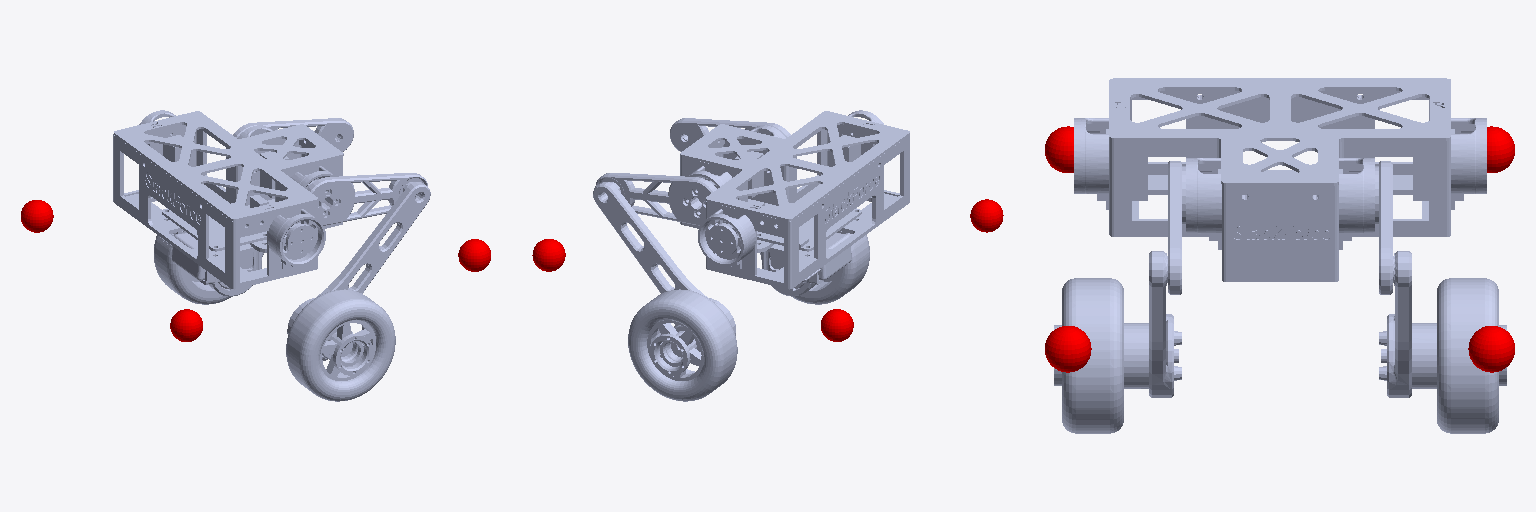
robot.urdf — sf:
<?xml version="1.0" encoding="utf-8"?>
<!-- This URDF was automatically created by SolidWorks to URDF Exporter! Originally created by Stephen Brawner (brawner@gmail.com) 
     Commit Version: 1.6.0-4-g7f85cfe  Build Version: 1.6.7995.38578
     For more information, please see http://wiki.ros.org/sw_urdf_exporter -->
<robot
  name="sf">
  <link
    name="base_link">
    <inertial>
      <origin
        xyz="0.0061304 0.0002476 -0.0093676"
        rpy="0 0 0" />
      <mass
        value="0.2660000" />  # 原版质量0.266
      <inertia
        ixx="0.0006309"
        ixy="0.0000006"
        ixz="-0.0000468"
        iyy="0.0003008"
        iyz="0.0000003"
        izz="0.0007489" />
      <!--<mass
        value="0.2660000" />
      <inertia
        ixx="0.001100"
        ixy="0.0000000"
        ixz="0.0000000"
        iyy="0.001400"
        iyz="0.0000000"
        izz="0.002400" />-->
      <!--<mass
        value="0.7280000" />  
      <inertia
        ixx="0.001727"    
        ixy="0.0000016"   
        ixz="-0.000128"   
        iyy="0.000823"    
        iyz="0.0000008"   
        izz="0.002050" />-->  
    </inertial>
    <visual>
      <origin
        xyz="0.00 0 -0.00"
        rpy="0 0 0" />
      <!--<origin
        xyz="0.01 0 -0.025"
        rpy="0 0 0" />-->
      <geometry>
        <mesh
          filename="../meshes/base_link.STL" />
        <!--<box size="0.24 0.18 0.01" />-->
      </geometry>
      <material
        name="">
        <color
          rgba="0.792156862745098 0.819607843137255 0.933333333333333 1" />
      </material>
    </visual>
    
    <!-- 防倾倒支撑点 - 可视化部分 -->
    <!-- 左前支撑点 -->
    <visual>
      <origin xyz="0.115 0.09 -0.03" rpy="0 0 0" />
      <geometry>
        <sphere radius="0.01"/>
      </geometry>
      <material name="">
        <color rgba="1.0 0.0 0.0 1" />  <!-- 红色，易于识别 -->
      </material>
    </visual>
    
    <!-- 右前支撑点 -->
    <visual>
      <origin xyz="0.115 -0.09 -0.03" rpy="0 0 0" />
      <geometry>
        <sphere radius="0.01"/>
      </geometry>
      <material name="">
        <color rgba="1.0 0.0 0.0 1" />  <!-- 红色，易于识别 -->
      </material>
    </visual>
    
    <!-- 左后支撑点 -->
    <visual>
      <origin xyz="-0.085 0.09 -0.03" rpy="0 0 0" />
      <geometry>
        <sphere radius="0.01"/>
      </geometry>
      <material name="">
        <color rgba="1.0 0.0 0.0 1" />  <!-- 红色，易于识别 -->
      </material>
    </visual>
    
    <!-- 右后支撑点 -->
    <visual>
      <origin xyz="-0.085 -0.09 -0.03" rpy="0 0 0" />
      <geometry>
        <sphere radius="0.01"/>
      </geometry>
      <material name="">
        <color rgba="1.0 0.0 0.0 1" />  <!-- 红色，易于识别 -->
      </material>
    </visual>
    
    <collision>
      <origin
        xyz="0.00 0 -0.00"
        rpy="0 0 0" />
      <!--<origin
        xyz="0.01 0 -0.025"
        rpy="0 0 0" />-->
      <geometry>
        <mesh
          filename="../meshes/base_link.STL" />
        <!--<box size="0.24 0.18 0.01" />-->
      </geometry>
    </collision>
    
    <!-- 防倾倒支撑点 - collision only, 无摩擦球体 -->
    <!-- 左前支撑点 -->
    <collision>
      <origin xyz="0.115 0.09 -0.03" rpy="0 0 0" />
      <geometry>
        <sphere radius="0.01"/>
      </geometry>
      <surface>
        <friction>
          <ode>
            <mu>0.001</mu>
            <mu2>0.001</mu2>
          </ode>
        </friction>
      </surface>
    </collision>
    
    <!-- 右前支撑点 -->
    <collision>
      <origin xyz="0.115 -0.09 -0.03" rpy="0 0 0" />
      <geometry>
        <sphere radius="0.01"/>
      </geometry>
      <surface>
        <friction>
          <ode>
            <mu>0.001</mu>
            <mu2>0.001</mu2>
          </ode>
        </friction>
      </surface>
    </collision>
    
    <!-- 左后支撑点 -->
    <collision>
      <origin xyz="-0.085 0.09 -0.03" rpy="0 0 0" />
      <geometry>
        <sphere radius="0.01"/>
      </geometry>
      <surface>
        <friction>
          <ode>
            <mu>0.001</mu>
            <mu2>0.001</mu2>
          </ode>
        </friction>
      </surface>
    </collision>
    
    <!-- 右后支撑点 -->
    <collision>
      <origin xyz="-0.085 -0.09 -0.03" rpy="0 0 0" />
      <geometry>
        <sphere radius="0.01"/>
      </geometry>
      <surface>
        <friction>
          <ode>
            <mu>0.001</mu>
            <mu2>0.001</mu2>
          </ode>
        </friction>
      </surface>
    </collision>
  </link>
  <link
    name="LT_link">
    <inertial>
      <origin
        xyz="0.0012701 0.0040620 -0.0190086"
        rpy="0 0 0" />
      <mass
        value="0.0080000" />
      <inertia
        ixx="0.0000041"
        ixy="0.0000000"
        ixz="0.0000002"
        iyy="0.0000046"
        iyz="0.0000001"
        izz="0.0000005" />
    </inertial>
    <visual>
      <origin
        xyz="0 0 0"
        rpy="0 0 0" />
      <geometry>
        <mesh
          filename="../meshes/LT_link.STL" />
      </geometry>
      <material
        name="">
        <color
          rgba="0.792156862745098 0.819607843137255 0.933333333333333 1" />
      </material>
    </visual>
    <collision>
      <origin
        xyz="0 0 0"
        rpy="0 0 0" />
      <geometry>
        <mesh
          filename="../meshes/LT_link.STL" />
      </geometry>
    </collision>
  </link>
  <joint
    name="LT_joint"
    type="revolute">
    <origin
      xyz="0.037193 0.04014 0.00555"
      rpy="0 -1.3914 0" />
    <parent
      link="base_link" />
    <child
      link="LT_link" />
    <axis
      xyz="0 -1 0" />
    <limit
      lower="-1.3479"
      upper="0.3363"
      effort="0.5"
      velocity="20" />
    <dynamics
      friction="0.00"
      damping="0.1" />
  </joint>
  <link
    name="LC_link">
    <inertial>
      <origin
        xyz="0.0013809 0.0047027 -0.0690315"
        rpy="0 0 0" />
      <mass
        value="0.0166292" />
      <inertia
        ixx="1.92606315320937E-05"
        ixy="-8.82655659688194E-09"
        ixz="-3.55356649539172E-07"
        iyy="1.99807316204063E-05"
        iyz="4.41228359669666E-07"
        izz="1.55379596081475E-06" />
    </inertial>
    <visual>
      <origin
        xyz="0 0 0"
        rpy="0 0 0" />
      <geometry>
        <mesh
          filename="../meshes/LC_link.STL" />
      </geometry>
      <material
        name="">
        <color
          rgba="0.792156862745098 0.819607843137255 0.933333333333333 1" />
      </material>
    </visual>
    <collision>
      <origin
        xyz="0 0 0"
        rpy="0 0 0" />
      <geometry>
        <mesh
          filename="../meshes/LC_link.STL" />
      </geometry>
    </collision>
  </link>
  <joint
    name="LC_joint"
    type="revolute">
    <origin
      xyz="0.00400624584257155 0.00825 -0.0599599974003271"
      rpy="3.14159265358979 0.970968251102385 3.14159265358979" />
    <parent
      link="LT_link" />
    <child
      link="LC_link" />
    <axis
      xyz="0 -1 0" />
    <limit
      lower="-0.3"
      upper="1.25"
      effort="0.5"
      velocity="20" />
    <dynamics
      friction="0.00"
      damping="0.1" />
  </joint>
  <link
    name="LW_link">
    <inertial>
      <origin
        xyz="0.0000000 0.0083246 0.0000000"
        rpy="0 0 0" />
      <mass
        value="0.0559681585451639" />
      <inertia
        ixx="0.0000121"
        ixy="0.0000000"
        ixz="0.0000000"
        iyy="0.0000209"
        iyz="0.0000000"
        izz="0.0000121" />
    </inertial>
    <visual>
      <origin
        xyz="0 0.0 0"
        rpy="0 0 0" />
      <geometry>
        <mesh
          filename="../meshes/LW_link.STL" />
      </geometry>
      <!--<geometry>
        <cylinder length="0.03" radius="0.03"/>
      </geometry>-->
      <material
        name="">
        <color
          rgba="0.792156862745098 0.819607843137255 0.933333333333333 1" />
      </material>
    </visual>
    <collision>
      <origin
        xyz="0 0.0 0"
        rpy="0 0 0" />
      <geometry>
        <mesh
          filename="../meshes/LW_link.STL" />
      </geometry>
      <!--<geometry>
        <cylinder length="0.03" radius="0.03"/>
      </geometry>-->
    </collision>
  </link>
  <joint
    name="LW_joint"
    type="revolute">
    <origin
      xyz="0.00200000000000076 0.024 -0.0999799979995941"
      rpy="0 -0.779219558190924 0" />
    <parent
      link="LC_link" />
    <child
      link="LW_link" />
    <axis
      xyz="0 1 0" />
    <limit
      
      effort="0.1"
      velocity="100" />
    <dynamics
      friction="0.0015"
      damping="0.00" />
  </joint>
  <link
    name="RT_link">
    <inertial>
      <origin
        xyz="0.00127013 -0.0040620 -0.0190086"
        rpy="0 0 0" />
      <mass
        value="0.0080000" />
      <inertia
        ixx="0.0000041"
        ixy="0.0000000"
        ixz="0.0000002"
        iyy="0.0000046"
        iyz="0.0000001"
        izz="0.0000005" />
    </inertial>
    <visual>
      <origin
        xyz="0 0 0"
        rpy="0 0 0" />
      <geometry>
        <mesh
          filename="../meshes/RT_link.STL" />
      </geometry>
      <material
        name="">
        <color
          rgba="0.792156862745098 0.819607843137255 0.933333333333333 1" />
      </material>
    </visual>
    <collision>
      <origin
        xyz="0 0 0"
        rpy="0 0 0" />
      <geometry>
        <mesh
          filename="../meshes/RT_link.STL" />
      </geometry>
    </collision>
  </link>
  <joint
    name="RT_joint"
    type="revolute">
    <origin
      xyz="0.037193 -0.03976 0.00555"
      rpy="0 -1.3914 0" />
    <parent
      link="base_link" />
    <child
      link="RT_link" />
    <axis
      xyz="0 1 0" />
    <limit
      lower="-0.3363"
      upper="1.3479"
      effort="0.5"
      velocity="20" />
    <dynamics
      friction="0.00"
      damping="0.1" />
  </joint>
  <link
    name="RC_link">
    <inertial>
      <origin
        xyz="-0.0013809 -0.0047027 -0.0690315"
        rpy="0 0 0" />
      <mass
        value="0.0166292" />
      <inertia
        ixx="0.0000240"
        ixy="0.0000000"
        ixz="0.0000004"
        iyy="0.0000245"
        iyz="-0.00000006"
        izz="0.0000016" />
    </inertial>
    <visual>
      <origin
        xyz="0 0 0"
        rpy="0 0 0" />
      <geometry>
        <mesh
          filename="../meshes/RC_link.STL" />
      </geometry>
      <material
        name="">
        <color
          rgba="0.792156862745098 0.819607843137255 0.933333333333333 1" />
      </material>
    </visual>
    <collision>
      <origin
        xyz="0 0 0"
        rpy="0 0 0" />
      <geometry>
        <mesh
          filename="../meshes/RC_link.STL" />
      </geometry>
    </collision>
  </link>
  <joint
    name="RC_joint"
    type="revolute">
    <origin
      xyz="0.0040062458425682 -0.00825000000001 -0.0599599974003474"
      rpy="-3.14159265358951 1.01097091824902 -3.14159265358956" />
    <parent
      link="RT_link" />
    <child
      link="RC_link" />
    <axis
      xyz="0 1 0" />
    <limit
      lower="-1.25"
      upper="0.3"
      effort="0.5"
      velocity="20" />
    <dynamics
      friction="0.00"
      damping="0.1" />
  </joint>
  <link
    name="RW_link">
    <inertial>
      <origin
        xyz="0.0000000 -0.0083246 0.0000000"
        rpy="1.5708 0 0" />
      <mass
        value="0.0559681585451639" />
      <inertia
        ixx="0.0000121"
        ixy="0.0000000"
        ixz="0.0000000"
        iyy="0.0000209"
        iyz="0.0000000"
        izz="0.0000121" />
    </inertial>
    <visual>
      <origin
        xyz="0 -0.0 0"
        rpy="0 0 0" />
      <geometry>
        <mesh
          filename="../meshes/RW_link.STL" />
      </geometry>
      <!--<geometry>
        <cylinder length="0.03" radius="0.03"/>
      </geometry>-->
      <material
        name="">
        <color
          rgba="0.792156862745098 0.819607843137255 0.933333333333333 1" />
      </material>
    </visual>
    <collision>
      <origin
        xyz="0 -0.0 0"
        rpy="0 0 0" />
      <geometry>
        <mesh
          filename="../meshes/RW_link.STL" />
      </geometry>
      <!--<geometry>
        <cylinder length="0.03" radius="0.03"/>
      </geometry>-->
    </collision>
  </link>
  <joint
    name="RW_joint"
    type="revolute">
    <origin
      xyz="-0.00199999999999527 -0.0240000000000082 -0.0999799979995988"
      rpy="0 -0.739216891044192 0" />
    <parent
      link="RC_link" />
    <child
      link="RW_link" />
    <axis
      xyz="0 -1 0" />
    <limit
      
      effort="0.1"
      velocity="100" />
    <dynamics
      friction="0.0015"
      damping="0.00" />
  </joint>



</robot>

--- Render facts (derived) ---
3 views of the same robot in one strip: view 1: azimuth 30°, elevation 25°; view 2: azimuth 150°, elevation 25°; view 3: azimuth 270°, elevation 25° (orthographic).
Robot: sf — 7 links, 6 joints (6 revolute); root link base_link; default pose: every joint at zero.
Links seen in each view (by area): view 1: base_link, RW_link, RC_link, RT_link, LW_link, LT_link; view 2: base_link, LW_link, LC_link, LT_link, RW_link, RT_link; view 3: base_link, RW_link, LW_link, LC_link, RC_link, RT_link, LT_link.
Link boxes in pixels (x1,y1,x2,y2): base_link: (21,110,490,341); RW_link: (286,289,395,401); RC_link: (287,182,430,360); RT_link: (307,173,427,225); LW_link: (154,233,230,304); LT_link: (233,118,353,151); base_link: (532,110,1003,341); LW_link: (628,289,737,401); LC_link: (593,182,735,338); LT_link: (595,173,716,225); RW_link: (793,233,869,304); RT_link: (670,118,790,151); base_link: (1045,78,1514,372); RW_link: (1054,278,1123,433); LW_link: (1437,278,1506,433); LC_link: (1379,251,1436,397); RC_link: (1124,251,1181,397); RT_link: (1168,161,1185,294); LT_link: (1375,161,1392,294).
Bounding box of the posed robot: 0.22 × 0.2 × 0.13 m (x, y, z).
Meshes: 7 distinct files referenced, 7 mesh visuals loaded (7 binary STL).
